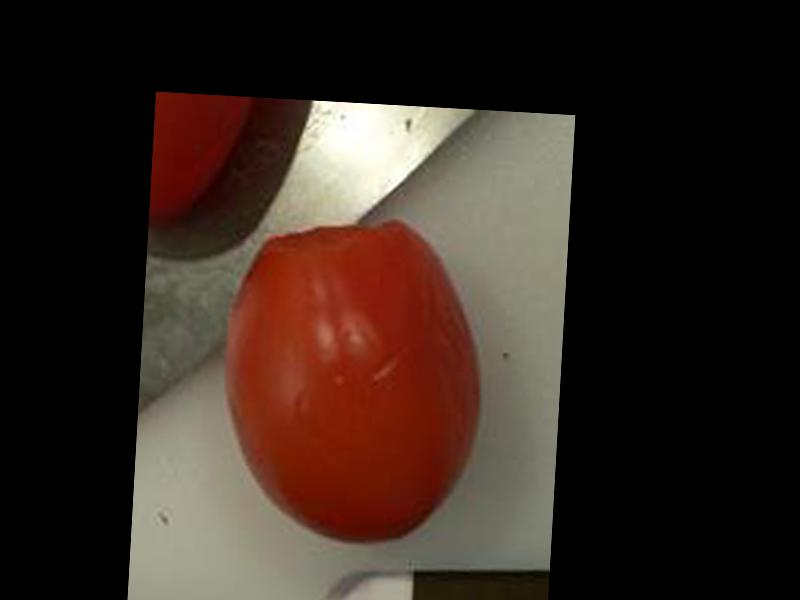Tomato: (213, 212, 489, 550)
